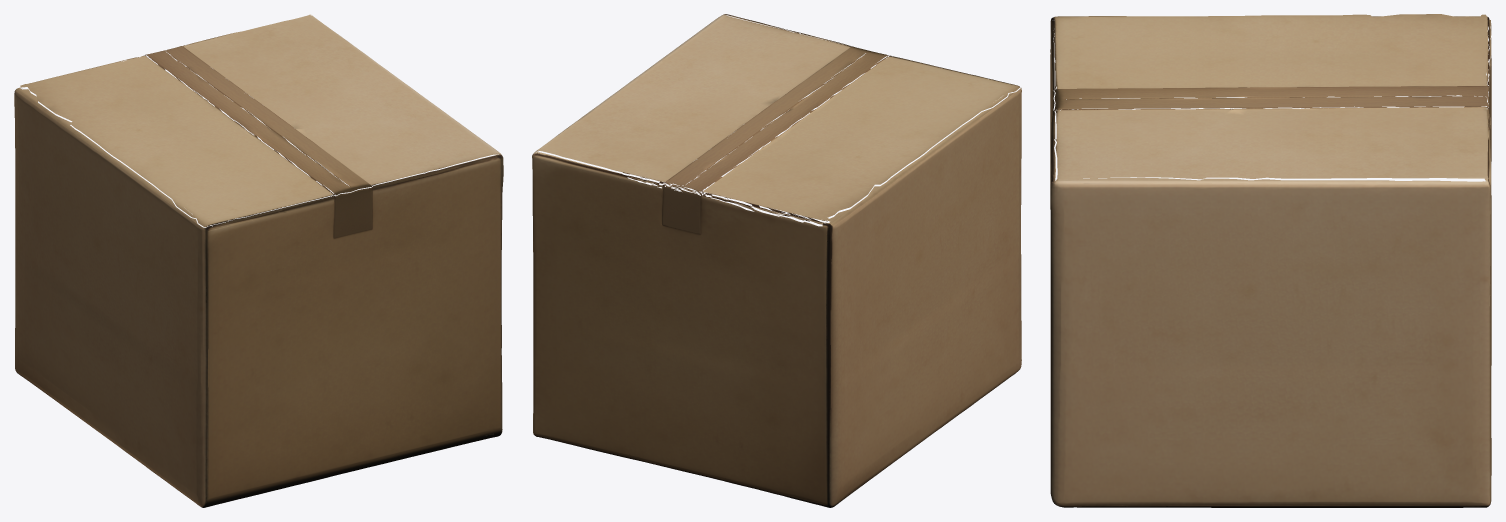
File: box-lid.glb
3 renders of one model, left to right at view 1: azimuth 30°, elevation 25°; view 2: azimuth 150°, elevation 25°; view 3: azimuth 270°, elevation 25°, orthographic. The views are drawn at different scales.
Parts seen in each view (by area): view 1: box, lid; view 2: box, lid; view 3: box, lid.
Boxes of the visible parts, box(x1,y1,x2,y2) form: box: box(14, 27, 503, 507); lid: box(20, 14, 498, 227); box: box(532, 14, 1021, 507); lid: box(536, 15, 1019, 224); box: box(1050, 16, 1491, 507); lid: box(1053, 14, 1491, 180).
Bounding box in the file's own units: 0.9154 × 0.8258 × 0.9999.
Materials: 1 (1 with a texture image).
